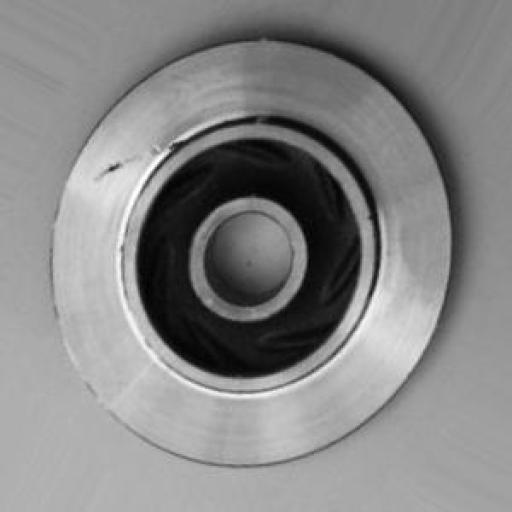defect: (74, 122, 192, 194)
